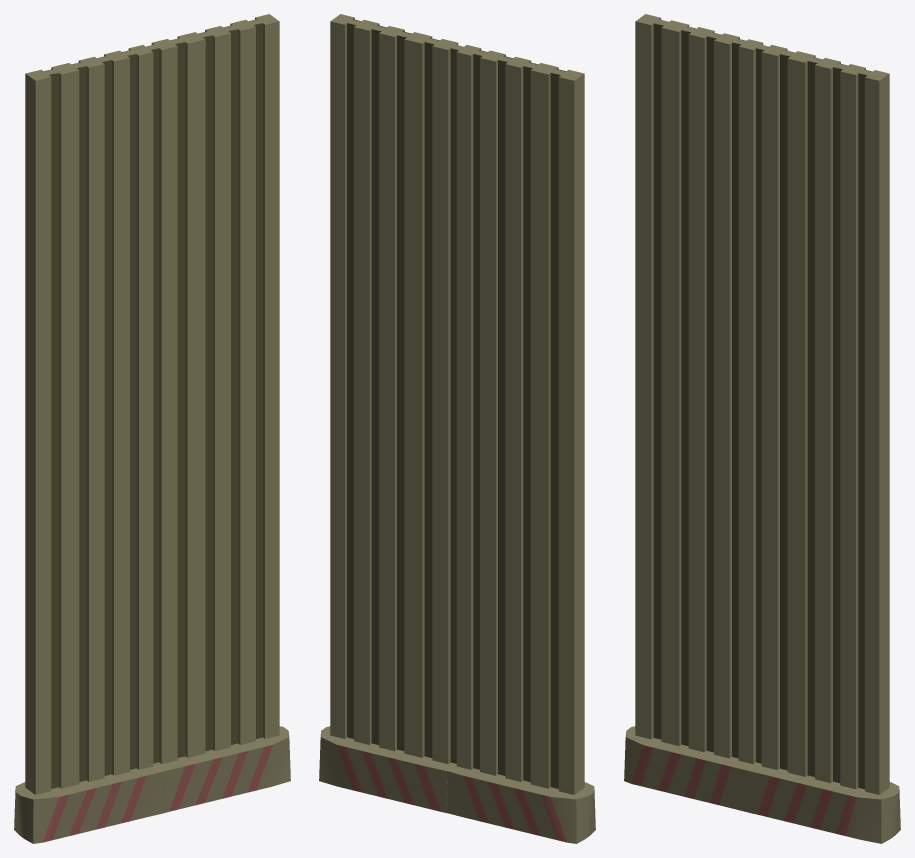
File: Puerta2.fbx
The picture shows the model from 3 angles, left to right: view 1: azimuth 30°, elevation 25°; view 2: azimuth 150°, elevation 25°; view 3: azimuth 330°, elevation 25°; orthographic projection.
Visible parts, largest first — view 1: pCube9; view 2: pCube9; view 3: pCube9.
Part boxes in pixels (<box>): pCube9: <box>14,14,290,843</box>; pCube9: <box>319,14,595,843</box>; pCube9: <box>624,14,900,843</box>.
Size of the model in its own units: 18.64 by 50.44 by 3.13.
